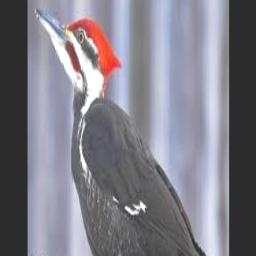Woodpecker: (34, 6, 227, 256)
